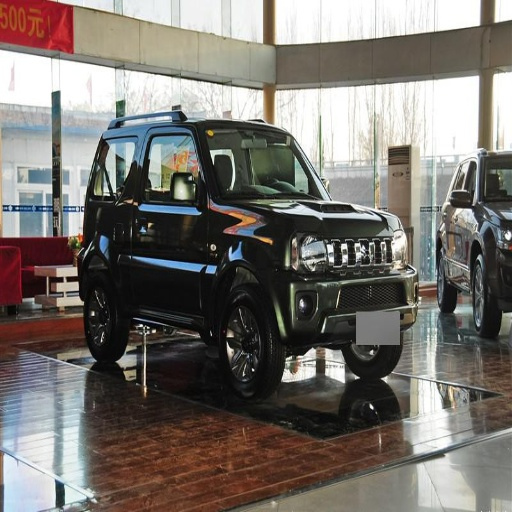front_bumper: (291, 237, 414, 345)
front_right_light: (289, 231, 337, 276)
trunk: (117, 200, 195, 249)
